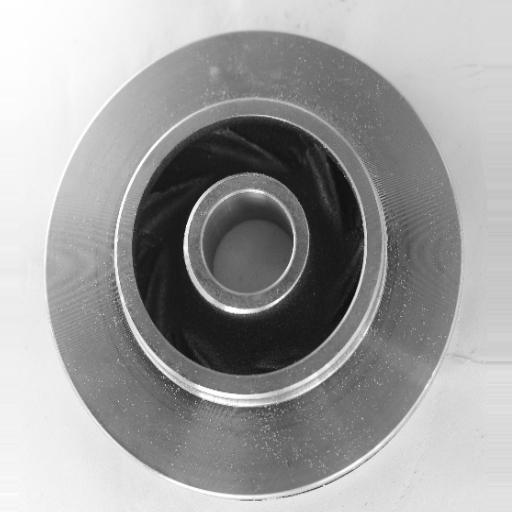polished_casting: (43, 28, 465, 500)
